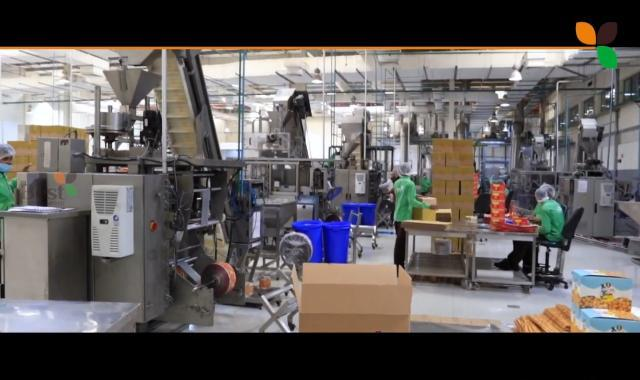Hairnet: (534, 183, 556, 204), (397, 162, 412, 178)
